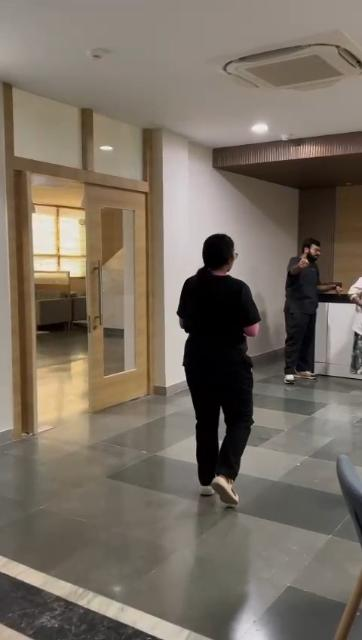door: (88, 189, 144, 407)
floor: (0, 341, 362, 640)
moving-obj: (167, 222, 271, 536), (271, 241, 327, 385), (346, 270, 362, 330)
object: (314, 455, 361, 629), (38, 286, 82, 328)
wall: (164, 132, 208, 225), (217, 182, 295, 232)
